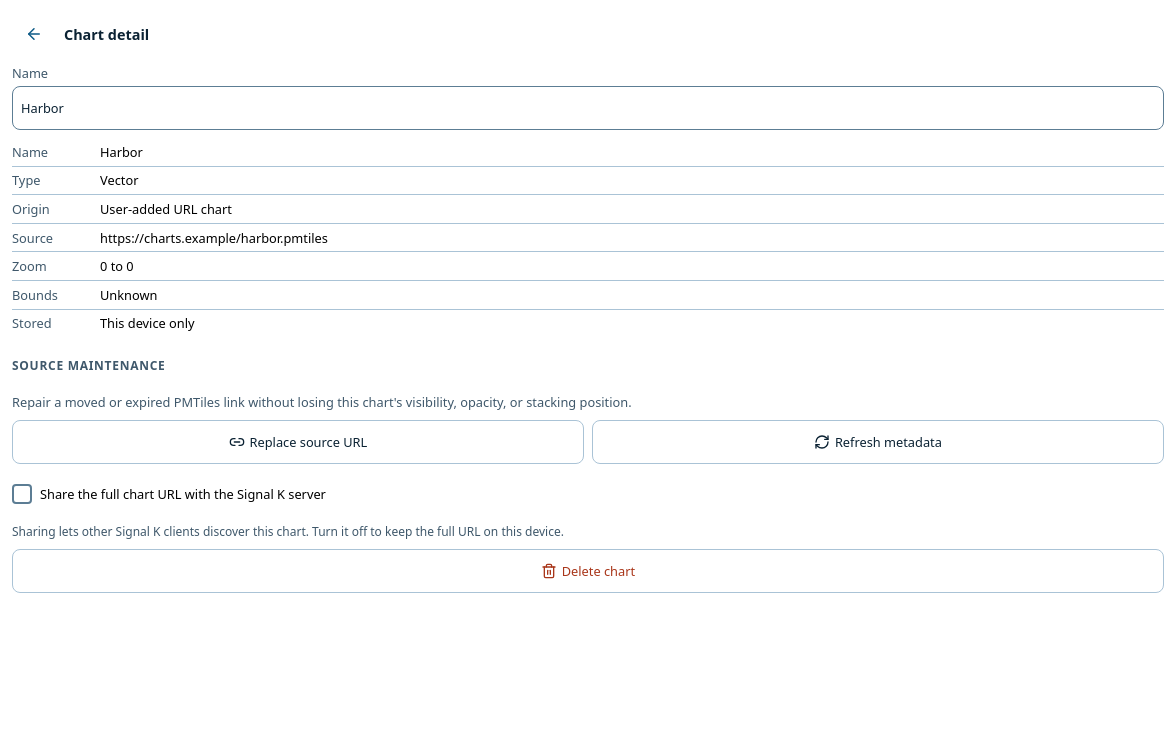
Scenario: SourceDetail delete gating › returns focus to Replace source URL when canceling the url stage
Click the button "Replace source URL" at x=298, y=442, box x1=12 y1=420 x2=584 y2=464
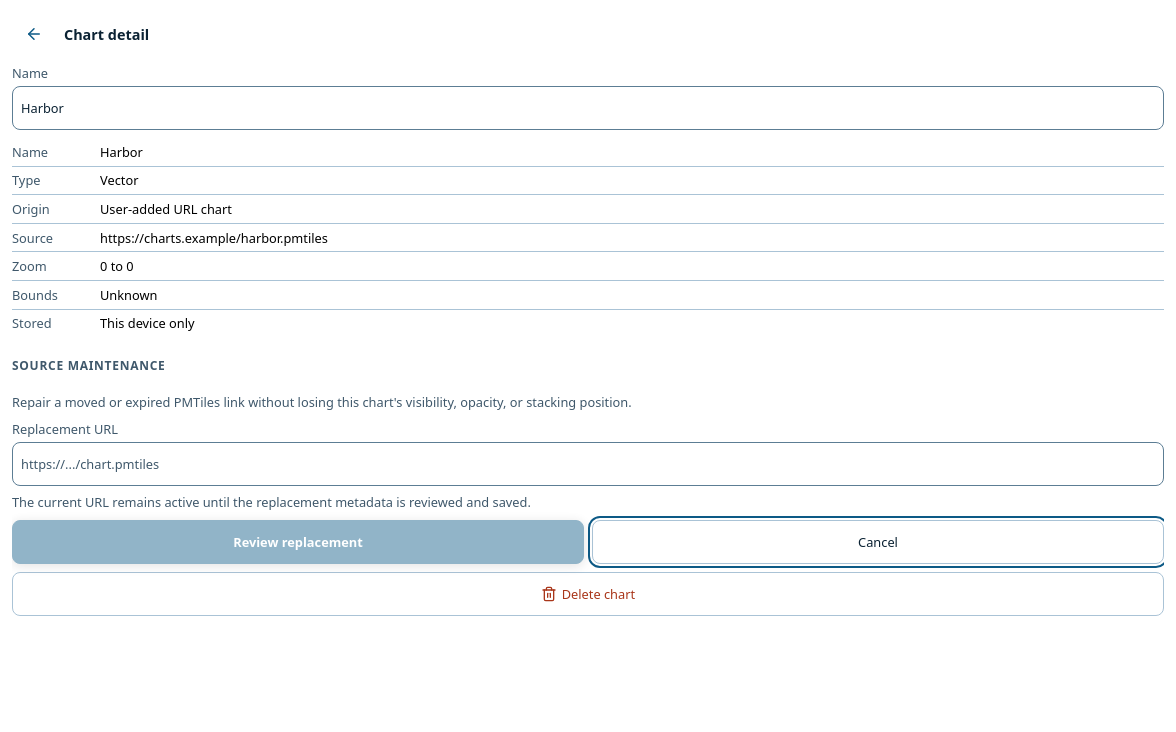
Click the button "Cancel" at x=878, y=542, box x1=592 y1=520 x2=1164 y2=564
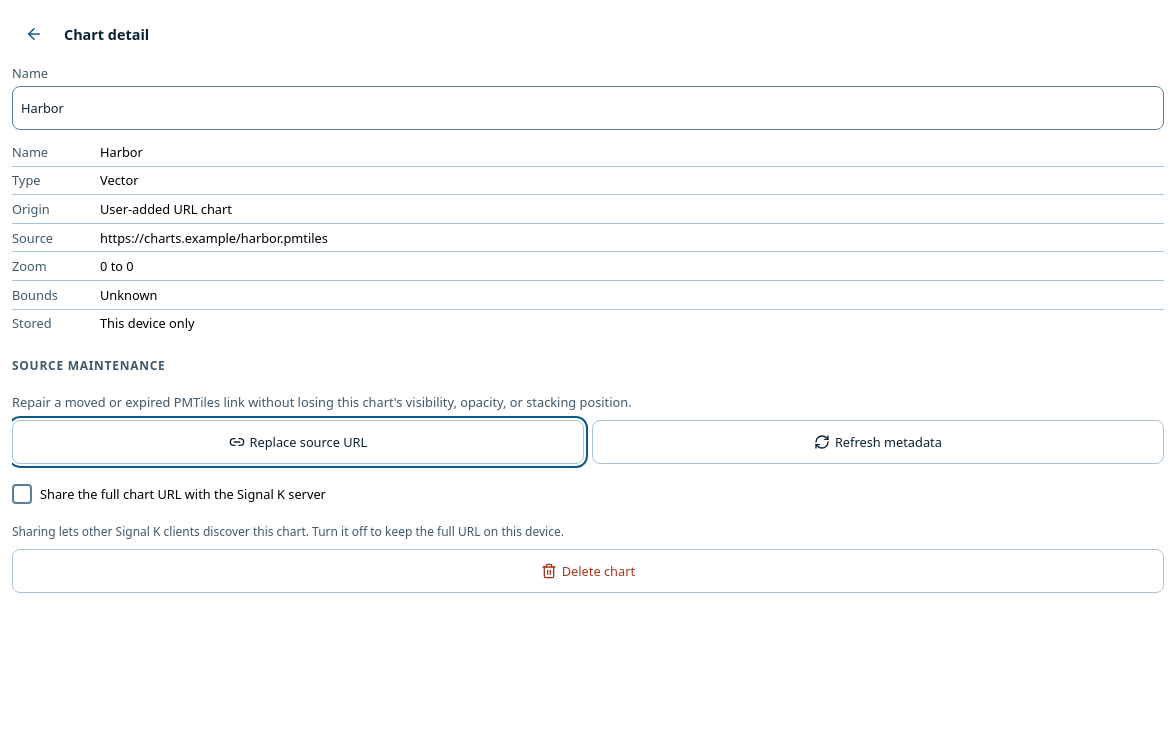
Check: the element with class "replacement-editor" is gone
